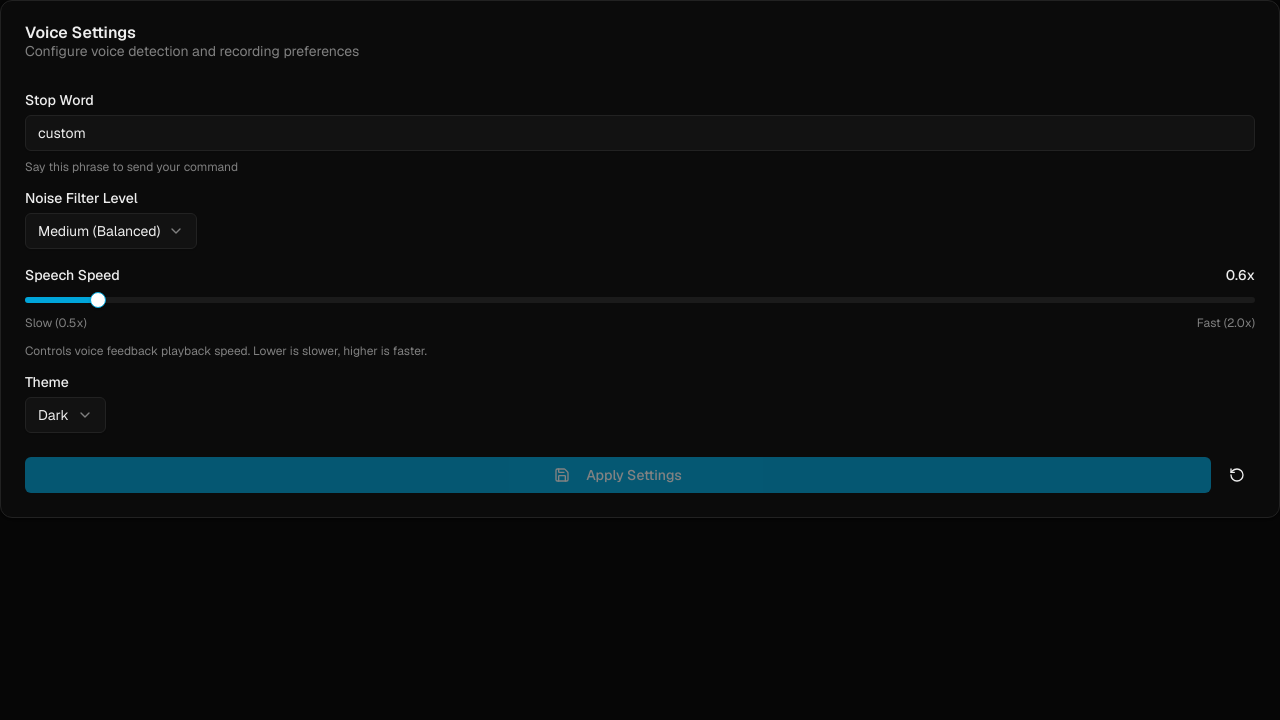
Scenario: SettingsPanel › cancel and reset › should reset to defaults on reset button click
The image size is (1280, 720).
Click reset button (icon button with title)
Click the button titled "Reset to defaults" at (1237, 475), box [1219,457,1255,493]
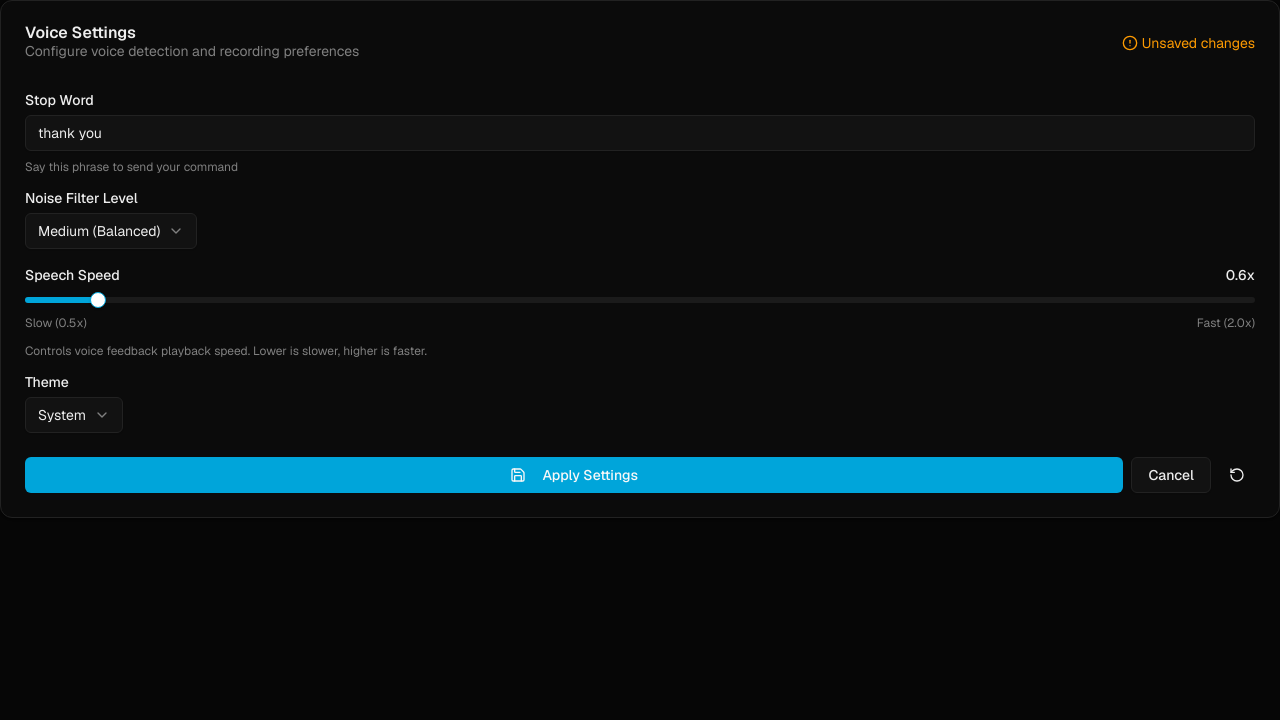
Check: the text "Unsaved changes" is shown, box [1142,33,1255,53]
